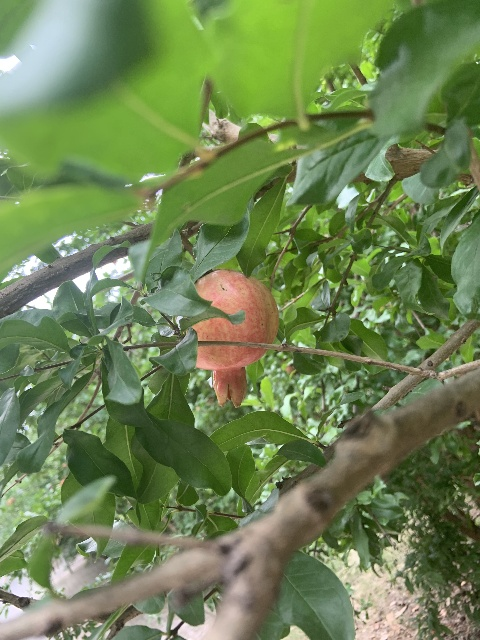ripe: (191, 268, 278, 409)
